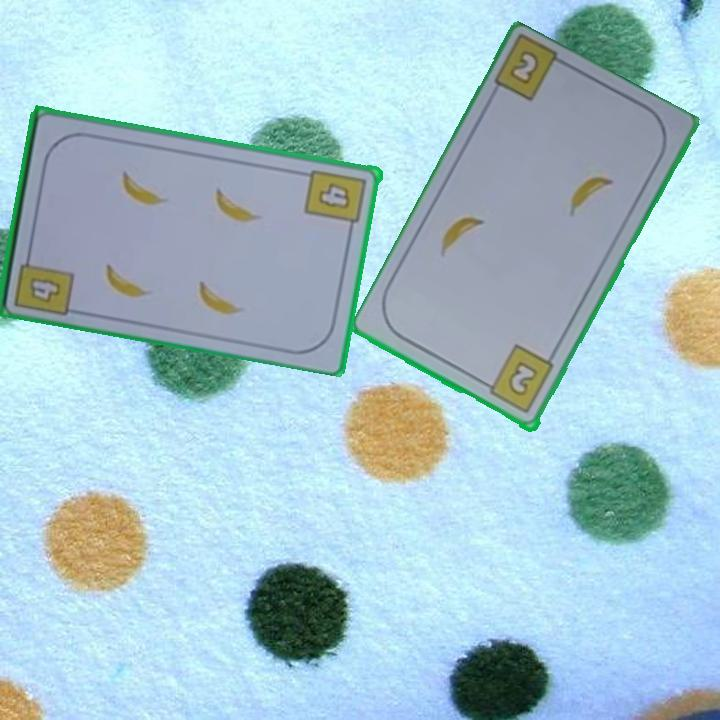2b: (479, 342, 557, 417), (509, 50, 539, 85)
4b: (302, 165, 370, 235), (26, 273, 65, 306)
